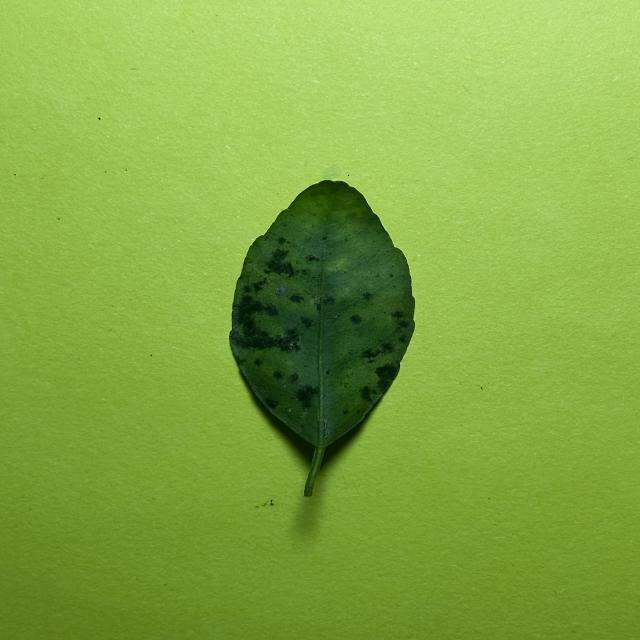sooty_mold: (230, 180, 414, 496)
